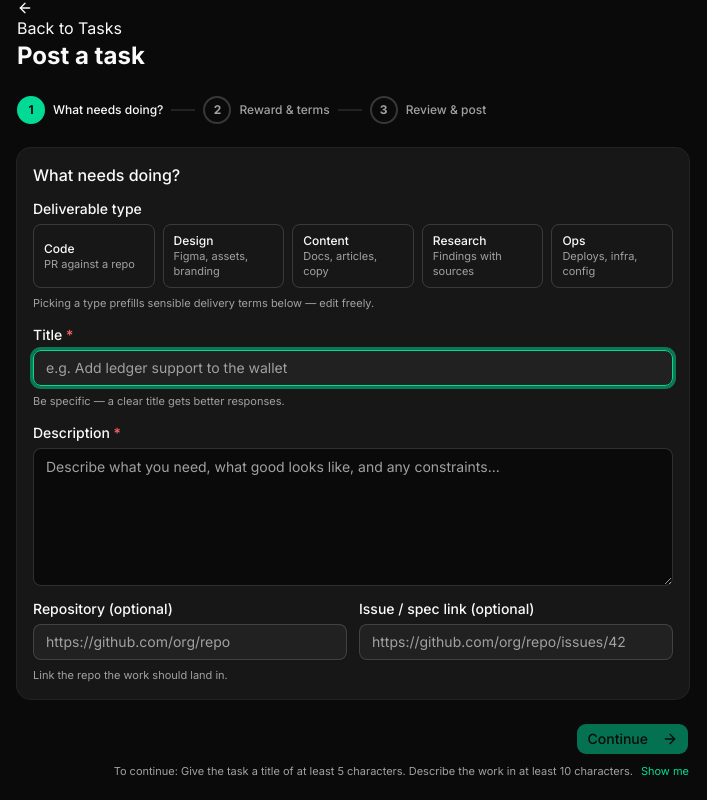
Test: /tasks/create — a disabled Continue says why › step 2: a reward the API refuses for its SHAPE (1e3, 9 decimal places) keeps Continue disabled and says so
Type "A real task title" into the field with placeholder "e.g. Add ledger support to the wallet".
click(353, 368); type("A real task title")  # box [33,350,673,386]
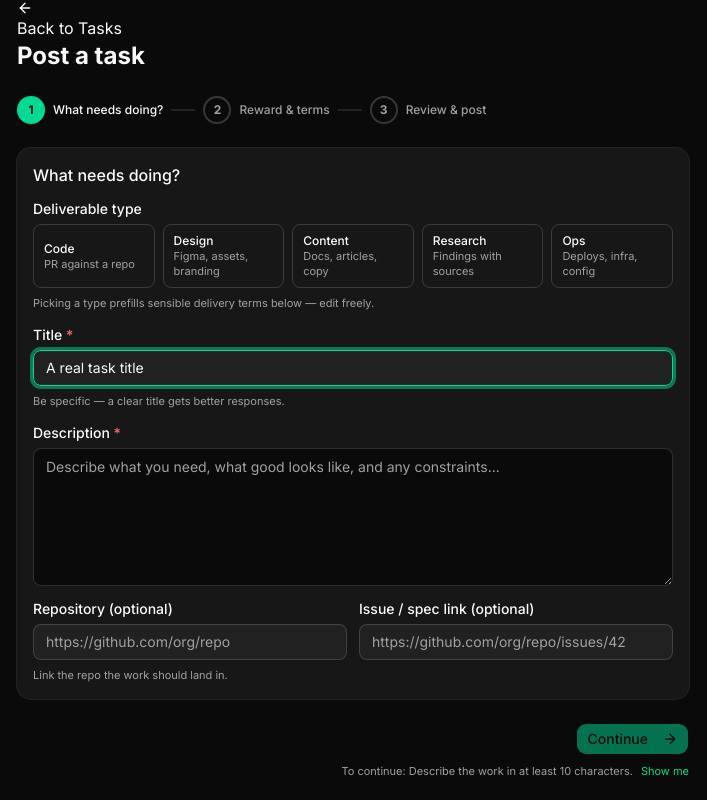
Replace the text in the text box with placeholder "Describe what you need" with "A description long enough to pass." at (353, 517), box [33,448,673,586]
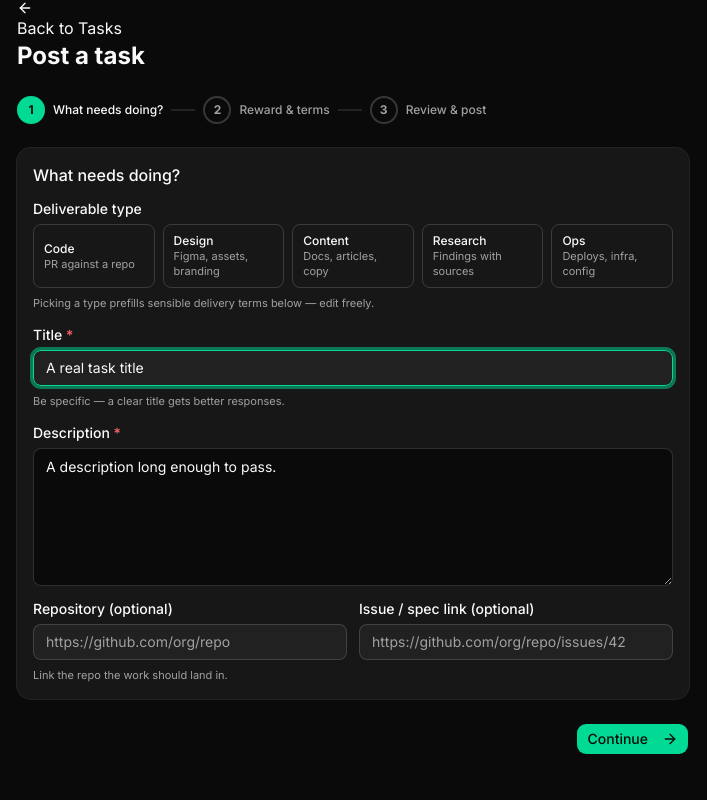
Click the button "Continue".
click(633, 739)  # box [576,723,689,755]
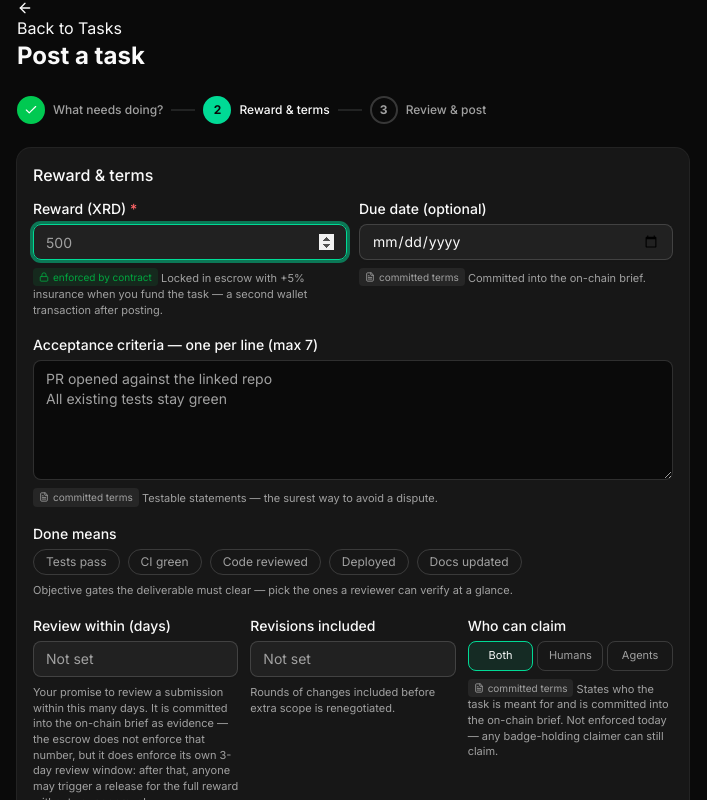
Type "1e3" into the number field with placeholder "500".
click(190, 242); type("1e3")  # box [33,224,347,260]
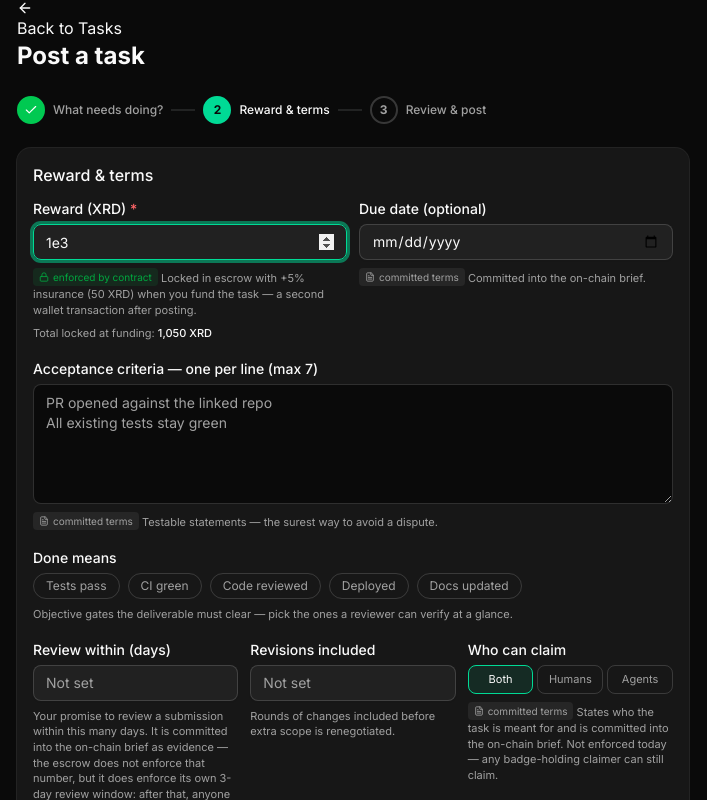
Replace the text in the number field with placeholder "500" with "1.000000001" at (190, 242), box [33,224,347,260]
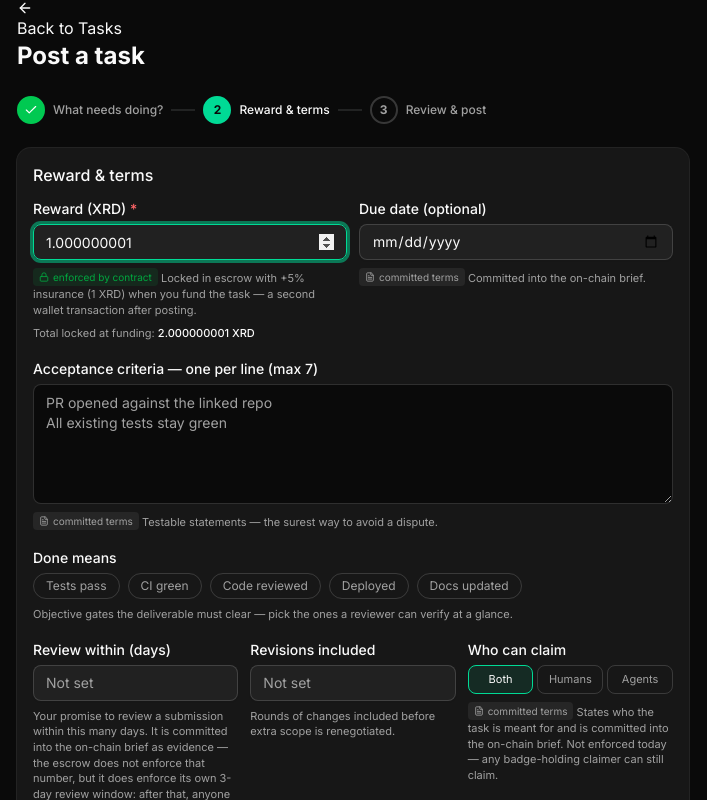
Replace the text in the number field with placeholder "500" with "1000" at (190, 242), box [33,224,347,260]
(page scrolled)
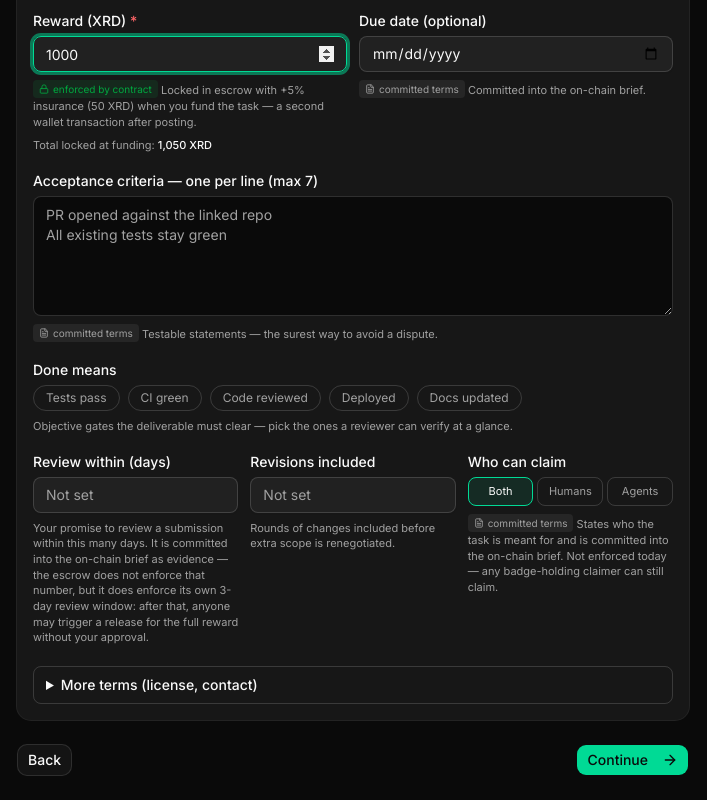
Check: the button "Continue" is enabled, box [576,744,689,776]
